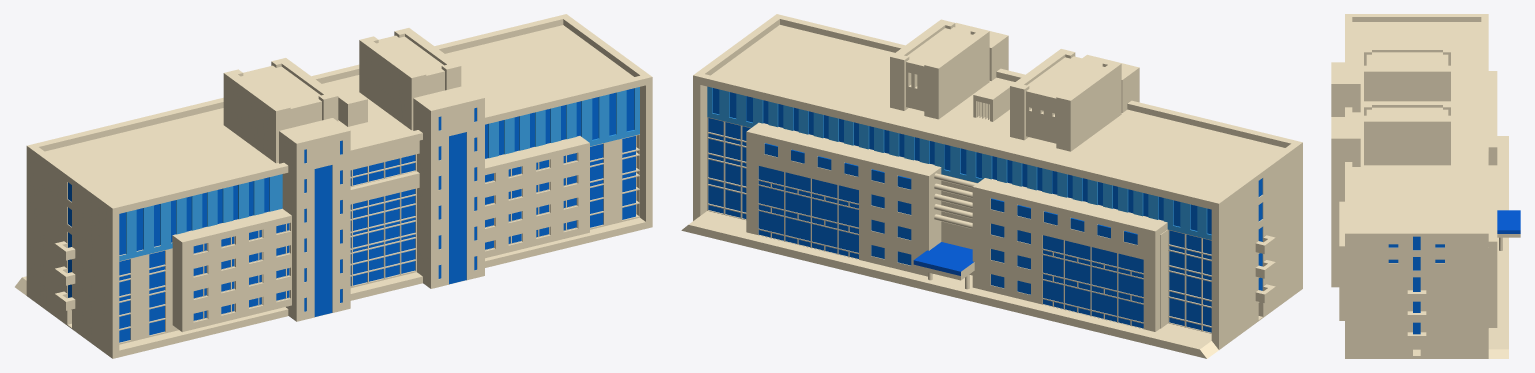
The model's file is 소융대.fbx.
3 renders of one model, left to right at view 1: azimuth 30°, elevation 25°; view 2: azimuth 150°, elevation 25°; view 3: azimuth 270°, elevation 25°, orthographic. The views are drawn at different scales.
Visible parts, largest first — view 1: Cube_2_2, Cube_13_2, Cube_12_2, Cube, Cube_11, Cube_1, Cube_8, Cube_2, Cube_10; view 2: Cube_2_2, Cube_8_2, Cube_9_2, Cube_9, Cube_11, Cube_8, Cube_12_2, Cube_10; view 3: Cube_2_2, Cube_8, Cube_11, Cube_12_2, Cube_8_2, Cube_13_2, Cube_12, Cube_13_3, Cube_12_3, Cube_14.
Boxes of the visible parts, x1,y1,x2,y2 form: Cube_2_2: [15, 14, 652, 358]; Cube_13_2: [172, 136, 589, 331]; Cube_12_2: [279, 85, 484, 321]; Cube: [119, 88, 635, 342]; Cube_11: [223, 58, 338, 163]; Cube_1: [304, 107, 476, 316]; Cube_8: [359, 28, 461, 130]; Cube_2: [193, 153, 576, 320]; Cube_10: [328, 84, 367, 126]; Cube_2_2: [681, 14, 1302, 358]; Cube_8_2: [746, 122, 1167, 331]; Cube_9_2: [758, 143, 1143, 328]; Cube_9: [708, 88, 1211, 332]; Cube_11: [1010, 49, 1121, 151]; Cube_8: [890, 19, 989, 119]; Cube_12_2: [955, 22, 1139, 112]; Cube_10: [973, 80, 1011, 121]; Cube_2_2: [1345, 14, 1520, 358]; Cube_8: [1364, 101, 1450, 165]; Cube_11: [1364, 46, 1450, 101]; Cube_12_2: [1331, 62, 1360, 287]; Cube_8_2: [1488, 71, 1497, 327]; Cube_13_2: [1339, 201, 1344, 320]; Cube_12: [1388, 236, 1444, 334]; Cube_13_3: [1407, 290, 1426, 301]; Cube_12_3: [1407, 311, 1426, 322]; Cube_14: [1407, 332, 1426, 343].
Bounding box in the file's own units: 1114 × 375 × 392.
